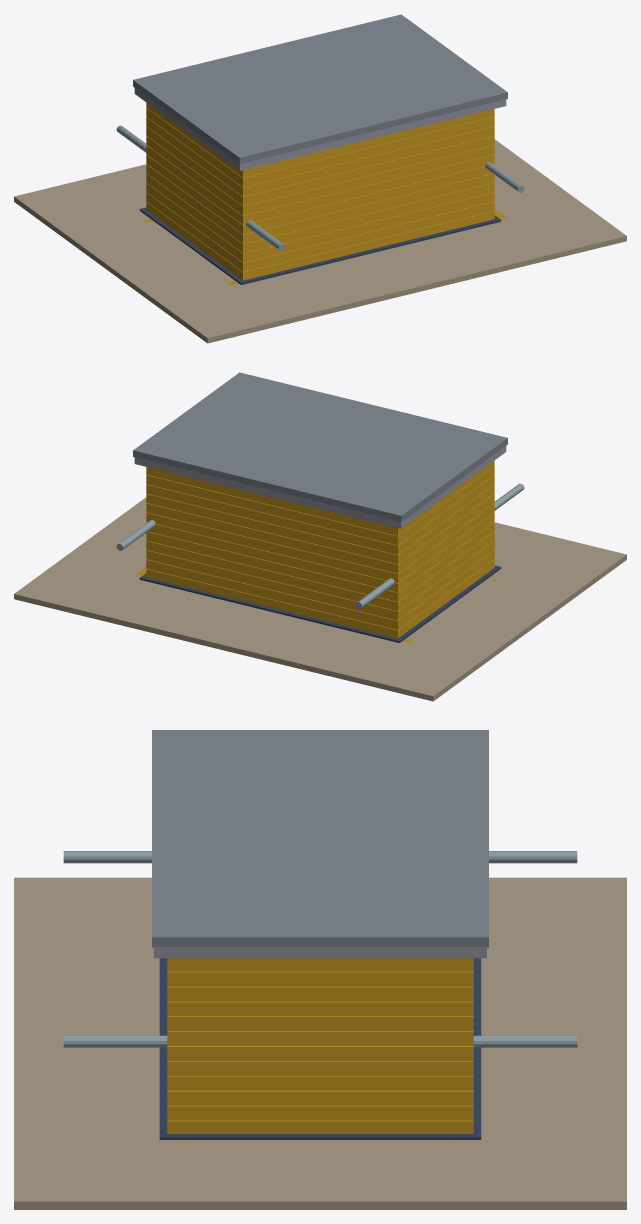
Rendered from stage_05_bands.glb.
The picture shows the model from 3 angles, top to bottom: view 1: azimuth 30°, elevation 25°; view 2: azimuth 150°, elevation 25°; view 3: azimuth 270°, elevation 25°; orthographic projection. The views are drawn at different scales.
Parts seen in each view (by area): view 1: world; view 2: world; view 3: world.
Boxes of the visible parts, x1=… form: world: x1=14, y1=14, x2=626, y2=343; world: x1=14, y1=372, x2=626, y2=701; world: x1=14, y1=730, x2=626, y2=1209.
Size of the model in its own units: 10 by 3.76 by 8.
